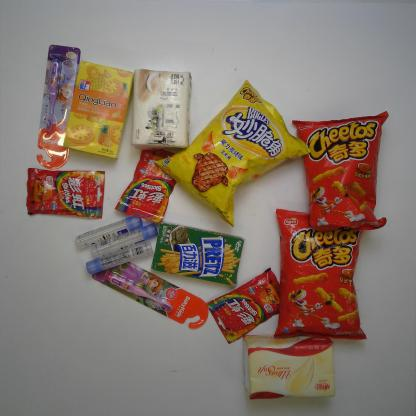Candy: (203, 264, 284, 346), (113, 144, 183, 226), (22, 164, 108, 222)
Dessert: (59, 56, 140, 164), (149, 219, 247, 290)
Personal Hygiene: (88, 256, 211, 332), (31, 38, 87, 172)
Puffed Food: (152, 74, 316, 231), (286, 102, 397, 240), (271, 204, 371, 344)
Stationery: (74, 212, 146, 251), (84, 239, 156, 277), (88, 222, 160, 260)
Tissue: (233, 328, 338, 405), (129, 65, 198, 161)
